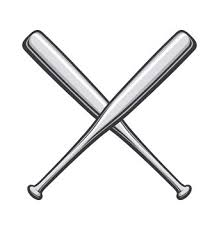baseball bat: (22, 30, 193, 199), (27, 29, 196, 199)
